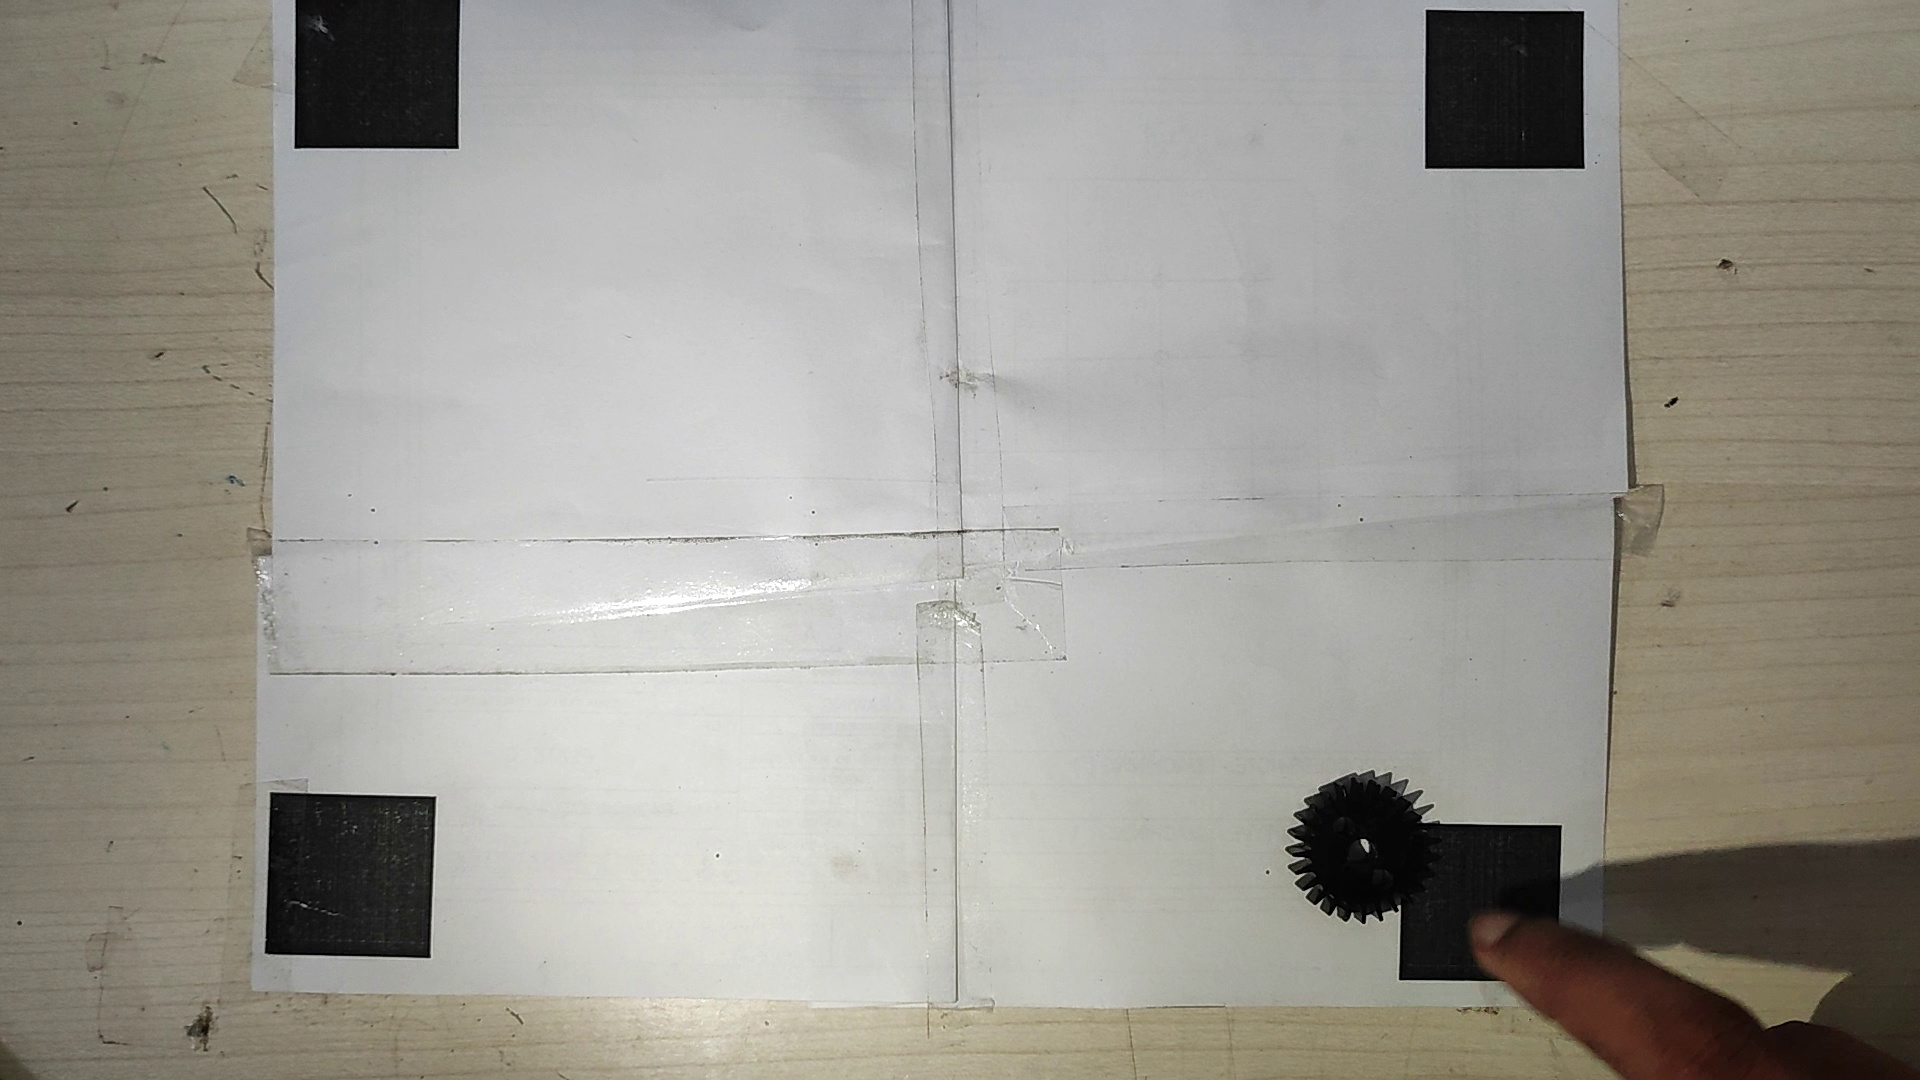Gear: (1283, 765, 1445, 927)
